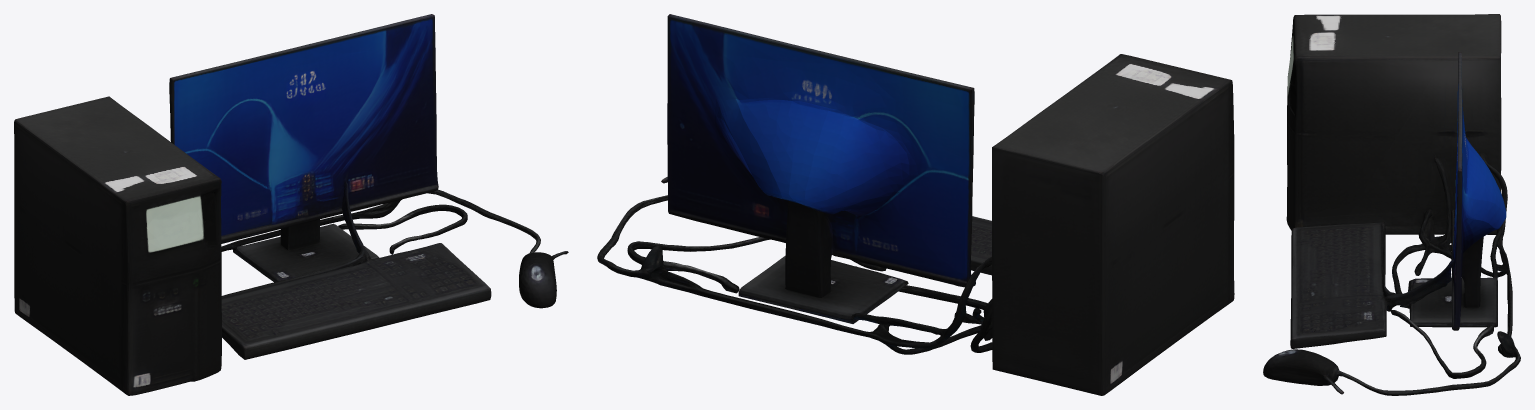
3 renders of one model, left to right at view 1: azimuth 30°, elevation 25°; view 2: azimuth 150°, elevation 25°; view 3: azimuth 270°, elevation 25°, orthographic. The views are drawn at different scales.
Parts seen in each view (by area): view 1: world; view 2: world; view 3: world.
Boxes of the visible parts, x1=… form: world: x1=14, y1=14, x2=568, y2=395; world: x1=597, y1=14, x2=1234, y2=395; world: x1=1263, y1=14, x2=1520, y2=395.
Bounding box in the file's own units: 0.999 × 0.4618 × 0.5161.
1 material, 1 textured.
